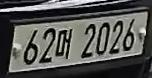0: (96, 23, 110, 55)
2: (81, 23, 96, 60), (41, 27, 56, 63), (110, 20, 123, 54)
6: (23, 29, 40, 66), (123, 18, 137, 53)
머: (56, 27, 74, 61)
